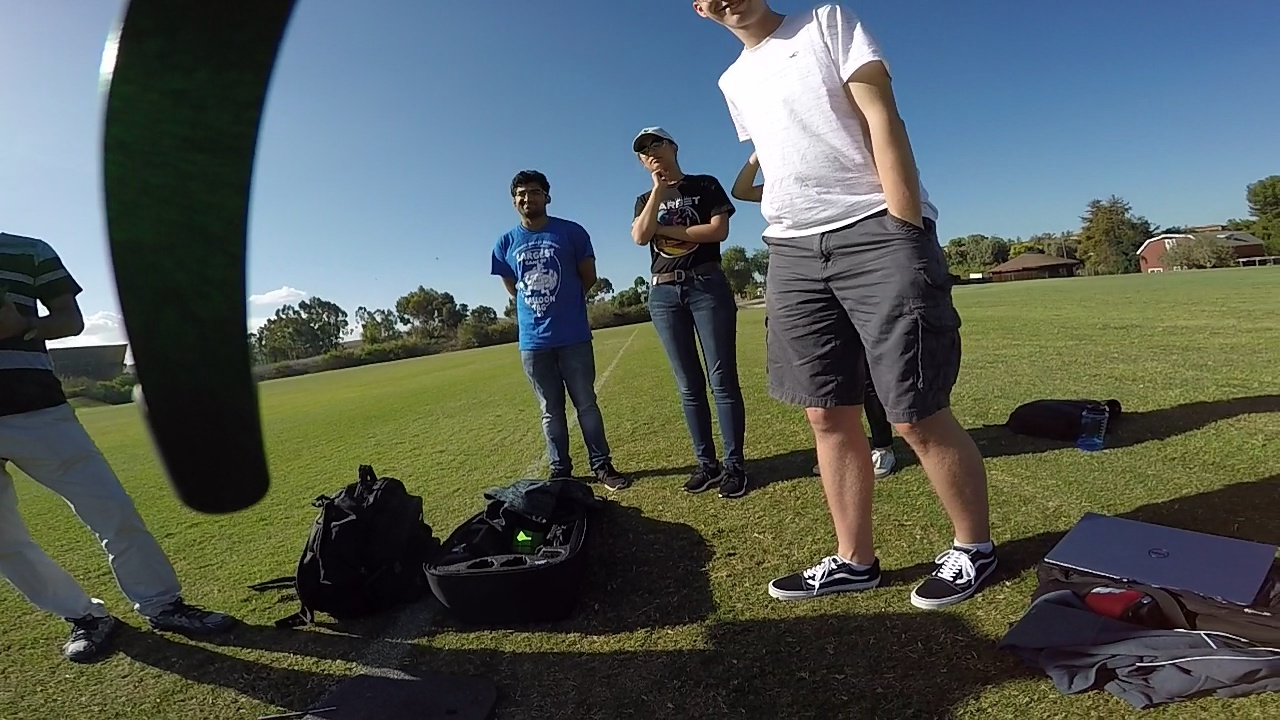person: (693, 0, 1011, 618), (0, 237, 200, 653), (482, 163, 627, 491), (624, 119, 746, 497)
